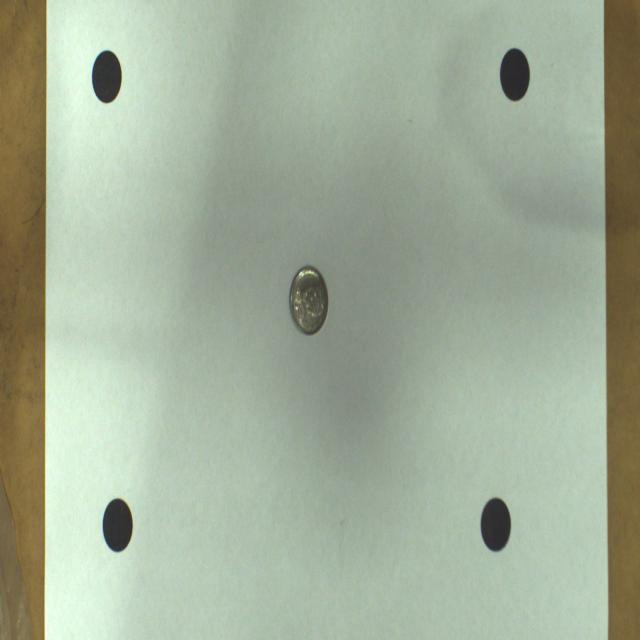head1bath: (290, 267, 329, 333)
space: (102, 498, 132, 553), (92, 51, 122, 104), (500, 49, 530, 102), (481, 498, 511, 551)
